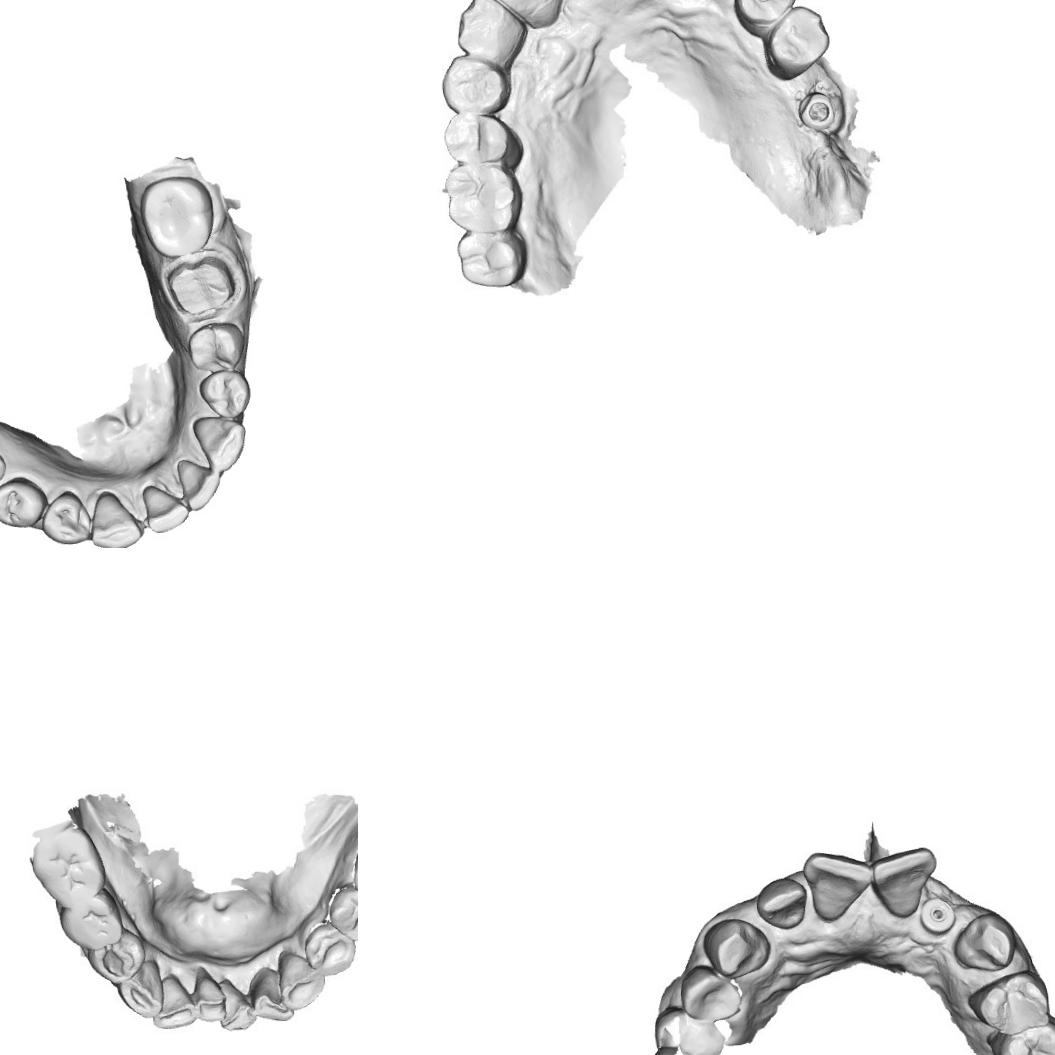canine: (705, 918, 773, 976), (458, 0, 520, 60), (956, 913, 1015, 975), (87, 488, 143, 548), (191, 414, 248, 472), (278, 946, 328, 1008), (122, 959, 168, 1019)
crown: (164, 254, 238, 319)
implant: (794, 88, 840, 134), (921, 894, 956, 937)
incisor: (809, 849, 875, 921), (873, 847, 934, 917), (150, 973, 198, 1036), (248, 968, 296, 1025), (140, 483, 188, 535), (176, 457, 220, 513), (762, 877, 808, 930), (216, 980, 260, 1034), (191, 970, 229, 1024), (489, 0, 556, 21)
molar: (137, 174, 218, 258), (441, 160, 526, 237), (28, 828, 100, 904), (454, 225, 532, 294), (62, 892, 122, 950)
premolar: (758, 0, 836, 84), (432, 52, 518, 121), (440, 109, 530, 169), (972, 974, 1050, 1036), (680, 966, 742, 1023), (185, 322, 250, 374), (38, 488, 95, 546), (86, 929, 146, 981), (196, 369, 252, 420), (306, 922, 356, 978), (731, 0, 799, 41), (0, 475, 49, 529), (328, 888, 358, 941), (1001, 1026, 1055, 1055)
